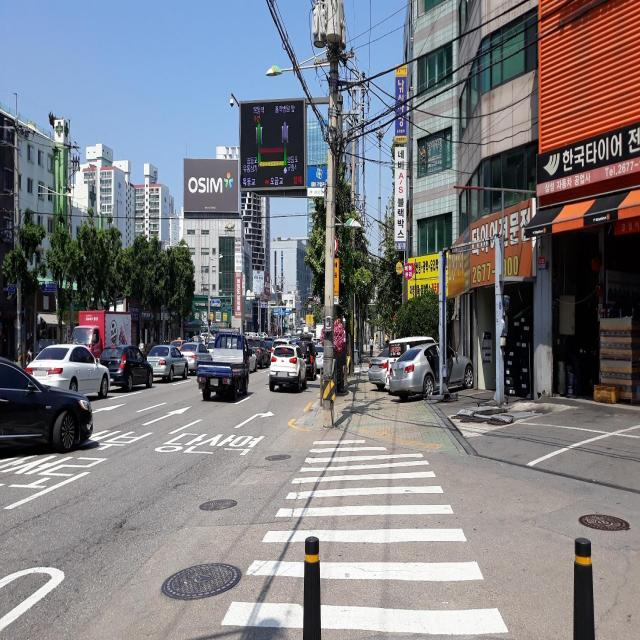횡단보도: (220, 438, 510, 640)
